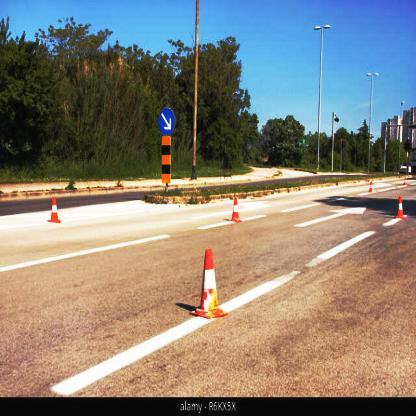Keep right: (157, 107, 177, 139)
